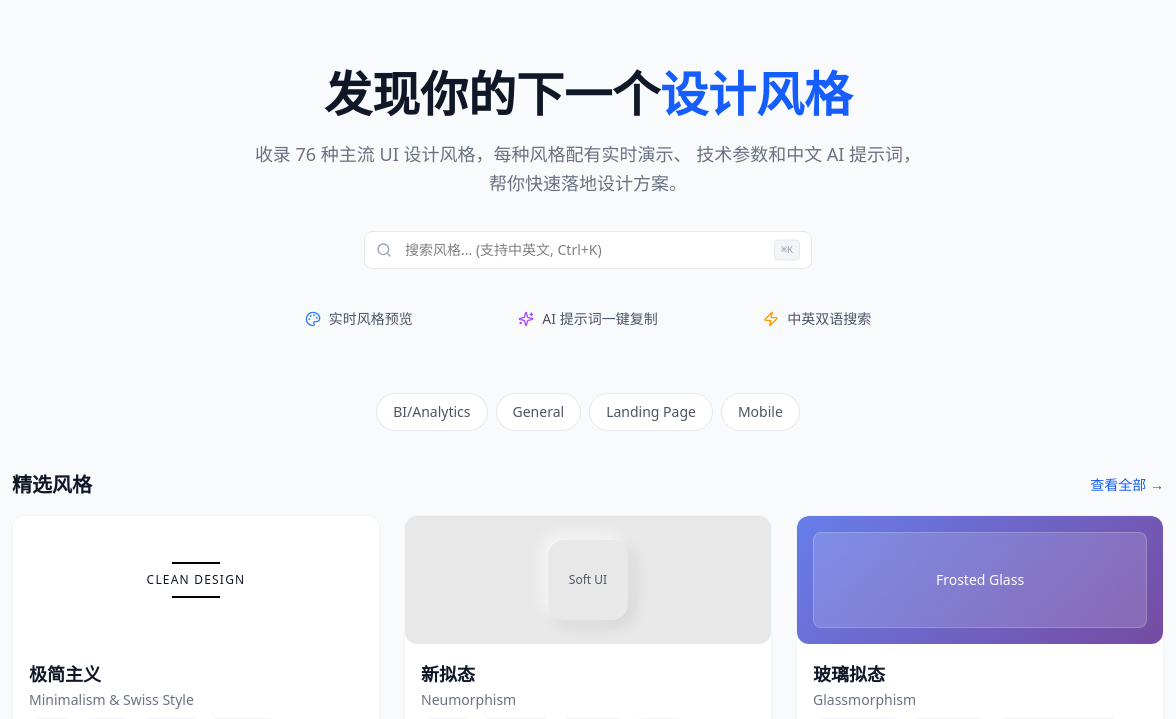
Test: HomePage › shows search results when query is entered
The image size is (1176, 719).
Type "Glassmorphism" into the field with placeholder "搜索风格... (支持中英文, Ctrl+K)".
click(588, 250); type("Glassmorphism")  # box [364,230,812,268]
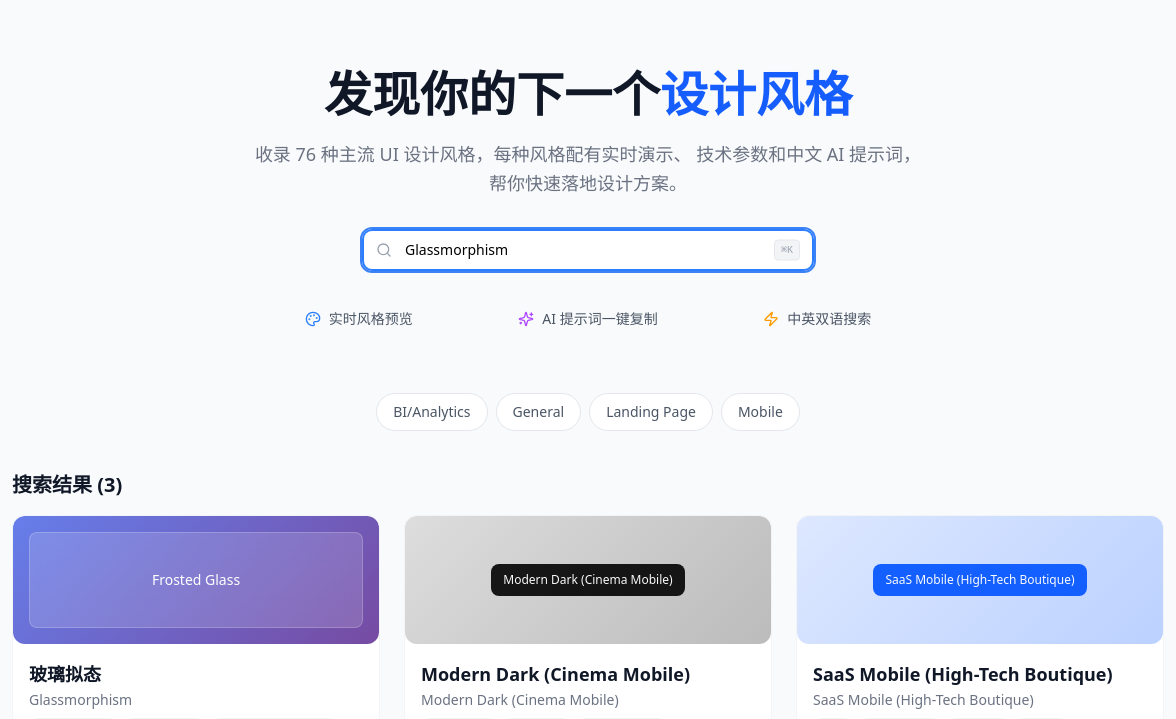
expect the heading "搜索结果 (3)" is shown: met, box [12,470,122,498]
